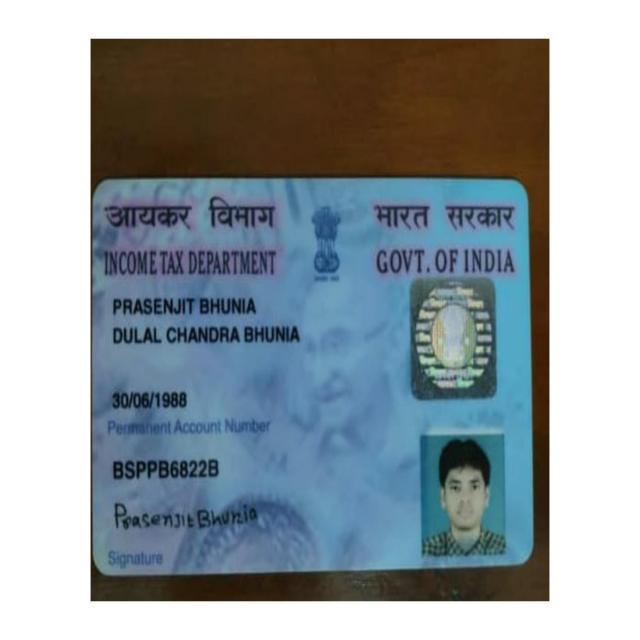pan_card: (94, 187, 527, 574)
